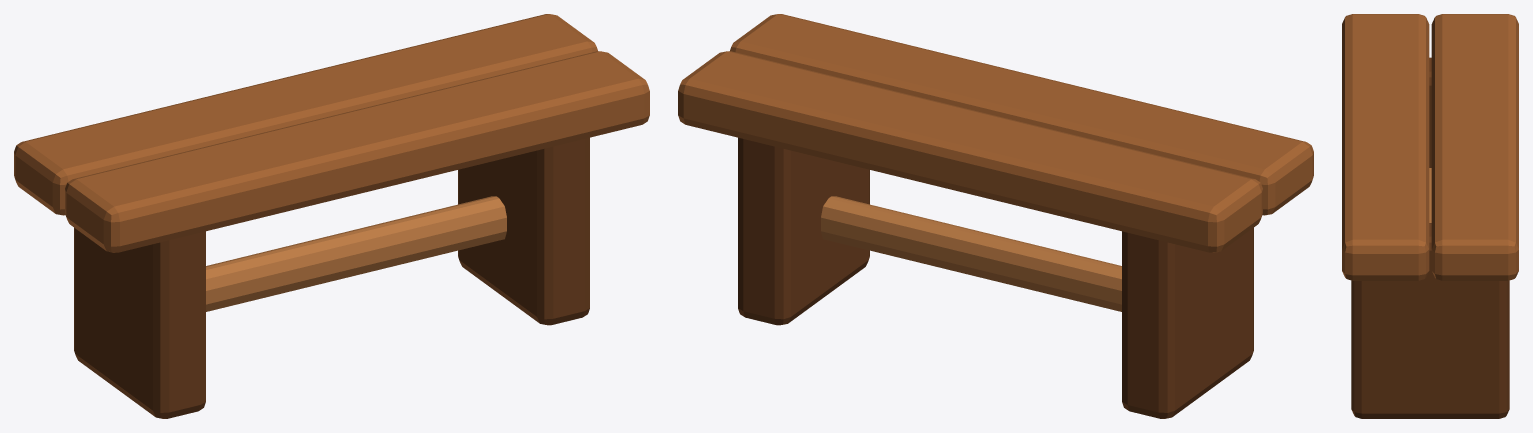
File: kit_bench.glb
3 renders of one model, left to right at view 1: azimuth 30°, elevation 25°; view 2: azimuth 150°, elevation 25°; view 3: azimuth 270°, elevation 25°, orthographic. The views are drawn at different scales.
Parts seen in each view (by area): view 1: Bench seat, Bench seat.001, Bench trestle, Bench trestle.001, Bench stretcher; view 2: Bench seat.001, Bench seat, Bench trestle, Bench trestle.001, Bench stretcher; view 3: Bench seat, Bench seat.001, Bench trestle.001, Bench trestle.
Part boxes in pixels (<box>): Bench seat: <box>65,51,649,252</box>; Bench seat.001: <box>14,14,597,215</box>; Bench trestle: <box>74,227,205,418</box>; Bench trestle.001: <box>458,137,589,325</box>; Bench stretcher: <box>206,196,506,311</box>; Bench seat.001: <box>678,51,1262,252</box>; Bench seat: <box>730,14,1313,215</box>; Bench trestle: <box>1122,227,1253,418</box>; Bench trestle.001: <box>738,137,869,325</box>; Bench stretcher: <box>821,196,1121,311</box>; Bench seat: <box>1342,14,1429,280</box>; Bench seat.001: <box>1431,14,1518,280</box>; Bench trestle.001: <box>1351,223,1509,418</box>; Bench trestle: <box>1429,57,1431,167</box>.
Size of the model in its own units: 1.05 by 0.4225 by 0.335.
